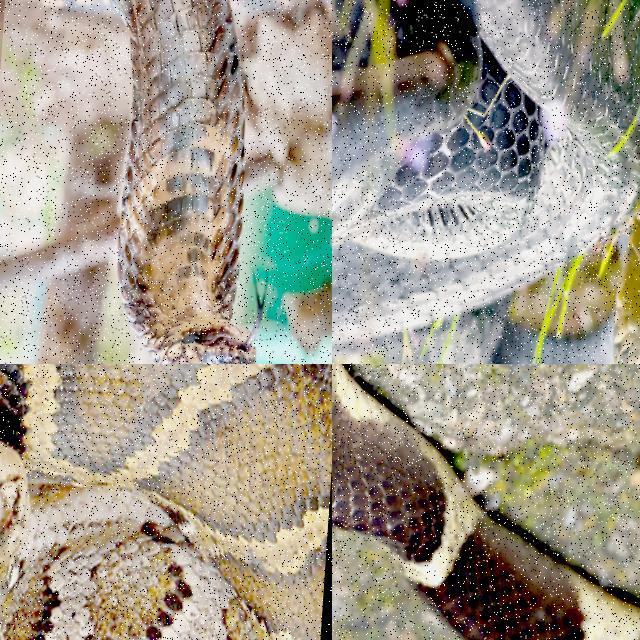Bungarus fasciatus: (332, 364, 639, 639)
Ophiophagus hannah: (332, 0, 639, 363), (40, 0, 294, 363)
Python bivittatus: (0, 364, 331, 639)
snake: (332, 0, 639, 363), (40, 0, 294, 363), (0, 364, 331, 639), (332, 364, 639, 639)
